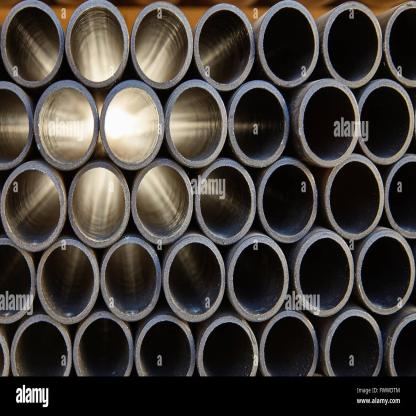PVC: (0, 2, 415, 377)
